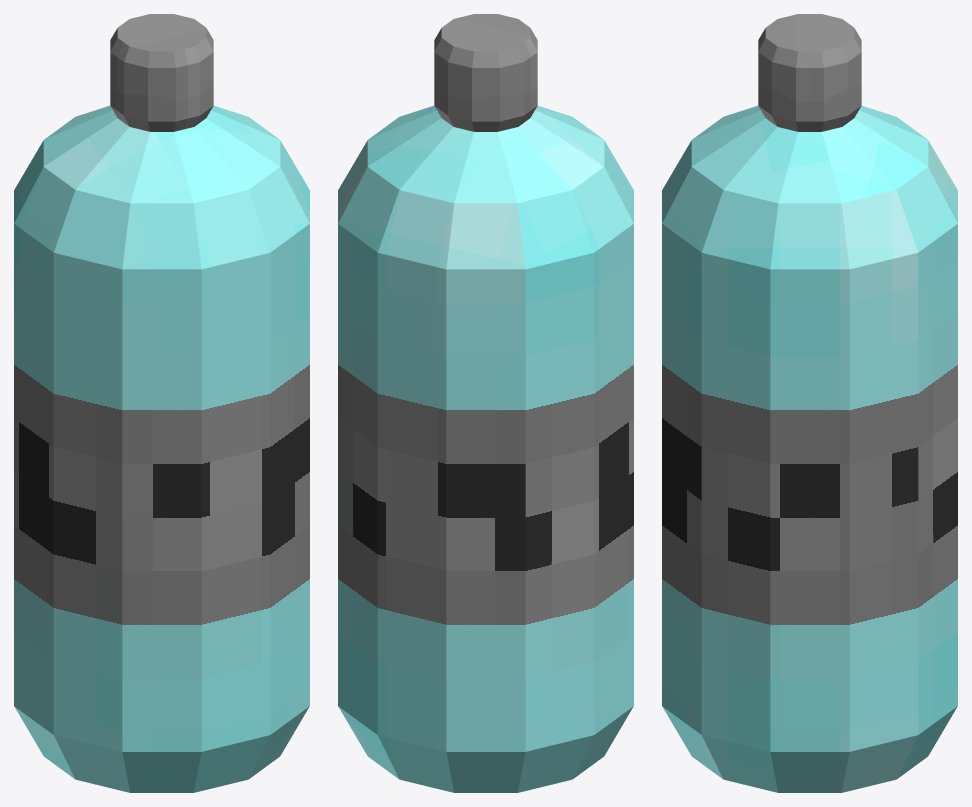
The model's file is bottle.fbx.
3 views of the same model, side by side, from view 1: azimuth 30°, elevation 25°; view 2: azimuth 150°, elevation 25°; view 3: azimuth 270°, elevation 25° (orthographic).
Parts seen in each view (by area): view 1: bottle; view 2: bottle; view 3: bottle.
Boxes of the visible parts, x1,y1,x2,y2 form: bottle: [14, 14, 309, 792]; bottle: [338, 14, 633, 792]; bottle: [662, 14, 957, 792].
Size of the model in its own units: 31.25 by 82.81 by 31.25.
1 material, 1 textured.
